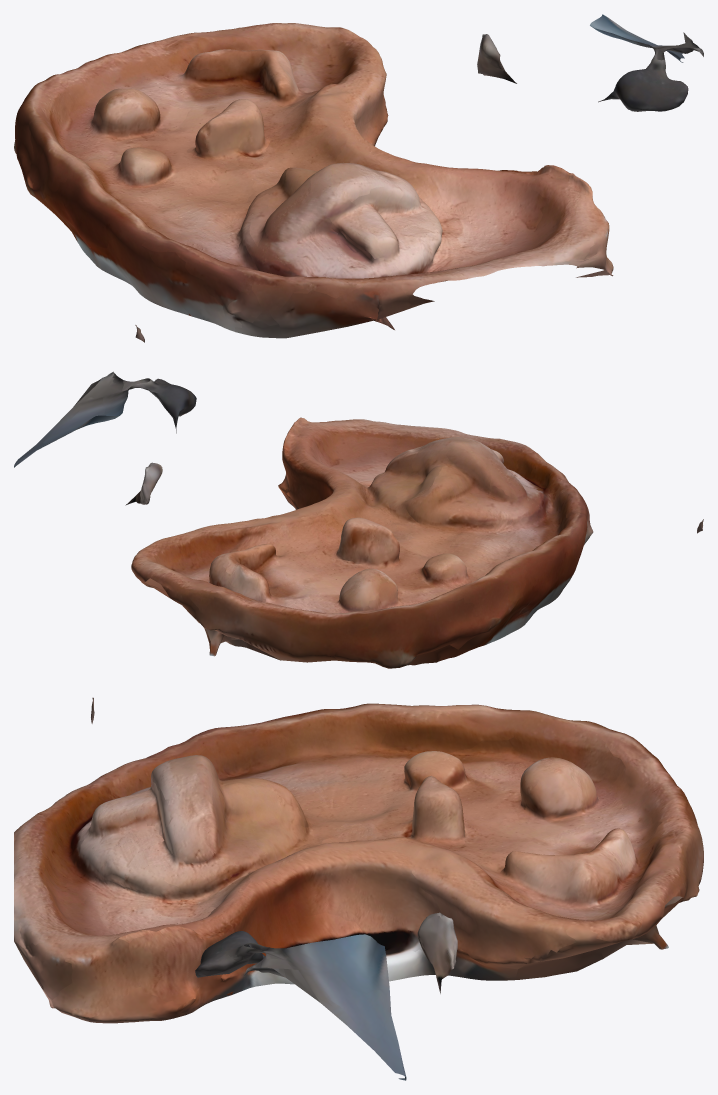
Rendered from controler.glb.
3 renders of one model, top to bottom at view 1: azimuth 30°, elevation 25°; view 2: azimuth 150°, elevation 25°; view 3: azimuth 270°, elevation 25°, orthographic. The views are drawn at different scales.
Parts seen in each view (by area): view 1: Node1; view 2: Node1; view 3: Node1.
Part boxes in pixels (box(x1,y1,x2,y2)): Node1: box(14, 14, 703, 342); Node1: box(14, 371, 703, 668); Node1: box(14, 697, 703, 1080).
Bounding box in the file's own units: 1.61 × 0.2903 × 1.24.
Materials: 1 (1 with a texture image).
